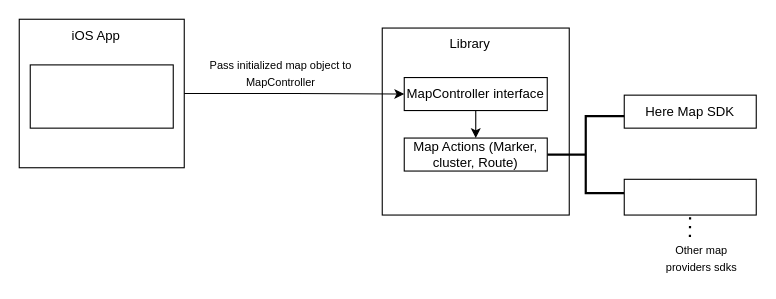
The diagram is 776 pixels wide and 299 high, and some of its shapes have lost their labels. Here are the shapes that lost their labels. From the top down, the box of each, then its label:
(29, 64, 173, 128): Initialize map object by using authentication token/keys
(623, 178, 756, 215): Google Map SDK
